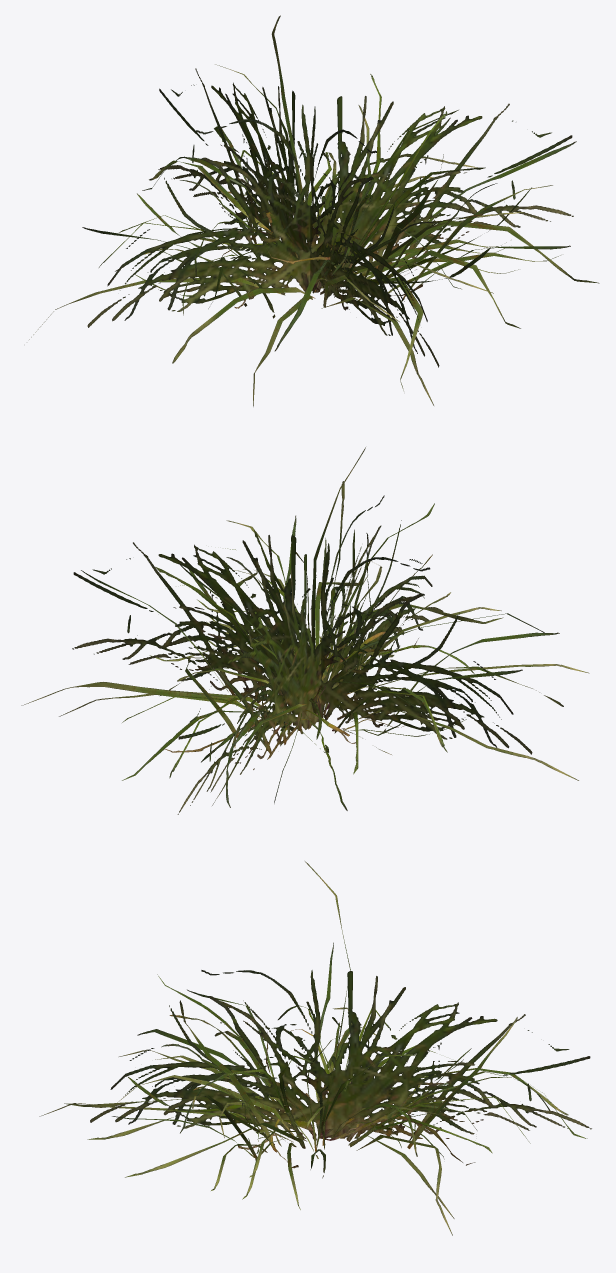
Rendered from grass_medium_01_large_b.gltf.
The picture shows the model from 3 angles, top to bottom: view 1: azimuth 30°, elevation 25°; view 2: azimuth 150°, elevation 25°; view 3: azimuth 270°, elevation 25°; orthographic projection. The views are drawn at different scales.
Visible parts, largest first — view 1: grass_medium_01_large_b__x; view 2: grass_medium_01_large_b__x; view 3: grass_medium_01_large_b__x.
Boxes of the visible parts, x1,y1,x2,y2 form: grass_medium_01_large_b__x: (29,15,599,406); grass_medium_01_large_b__x: (21,447,589,814); grass_medium_01_large_b__x: (39,861,591,1235).
Size of the model in its own units: 0.291 by 0.1651 by 0.291.
1 material, 1 textured.
